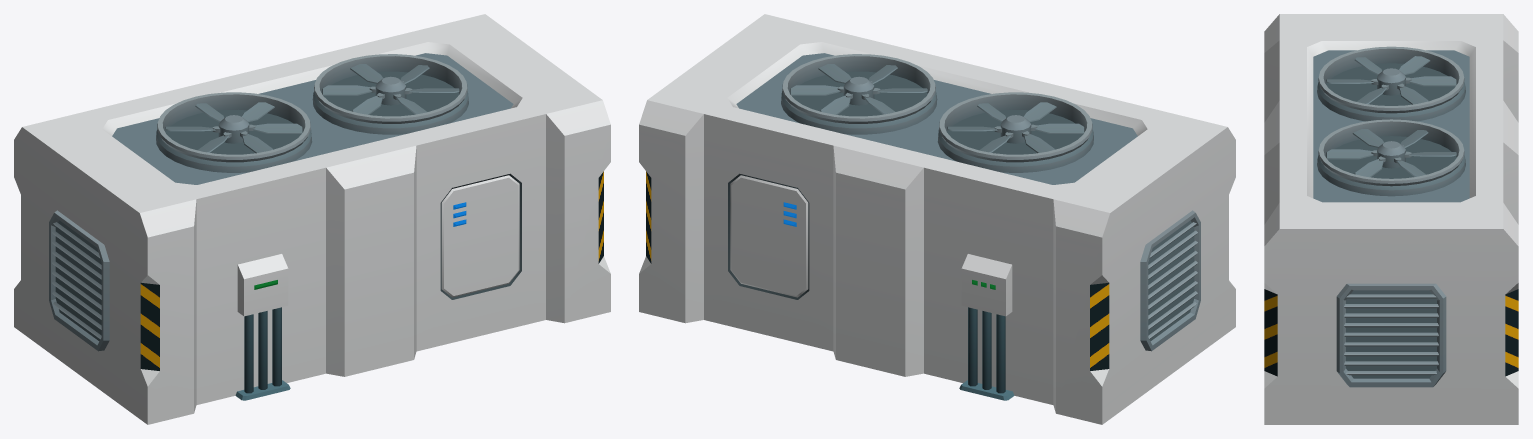
File: Ventilation_007.glb
3 renders of one model, left to right at view 1: azimuth 30°, elevation 25°; view 2: azimuth 150°, elevation 25°; view 3: azimuth 270°, elevation 25°, orthographic. The views are drawn at different scales.
Visible parts, largest first — view 1: Ventilation_007, Ventilation_013, Ventilation_014; view 2: Ventilation_007, Ventilation_013, Ventilation_014; view 3: Ventilation_007, Ventilation_013, Ventilation_014.
Boxes of the visible parts, <box> form: Ventilation_007: <box>14,14,610,424</box>; Ventilation_013: <box>165,102,302,153</box>; Ventilation_014: <box>322,64,459,114</box>; Ventilation_007: <box>639,14,1235,424</box>; Ventilation_013: <box>947,102,1084,152</box>; Ventilation_014: <box>790,64,927,114</box>; Ventilation_007: <box>1264,14,1518,424</box>; Ventilation_013: <box>1326,56,1456,104</box>; Ventilation_014: <box>1326,129,1456,177</box>.
Bounding box in the file's own units: 2.04 × 0.9067 × 1.
Materials: 2 (2 with a texture image).
